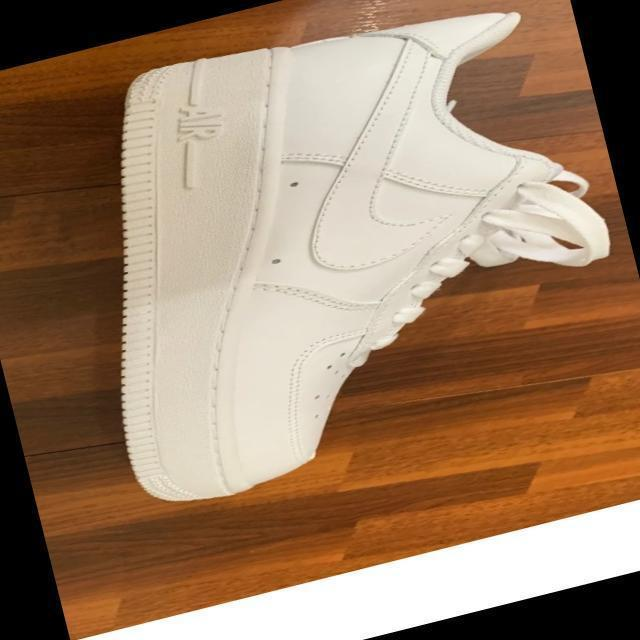nike original air force: (34, 0, 628, 515)
